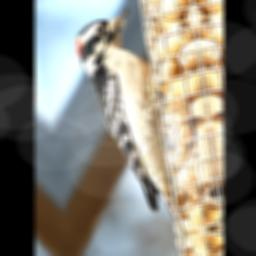Woodpecker: (71, 4, 180, 233)
